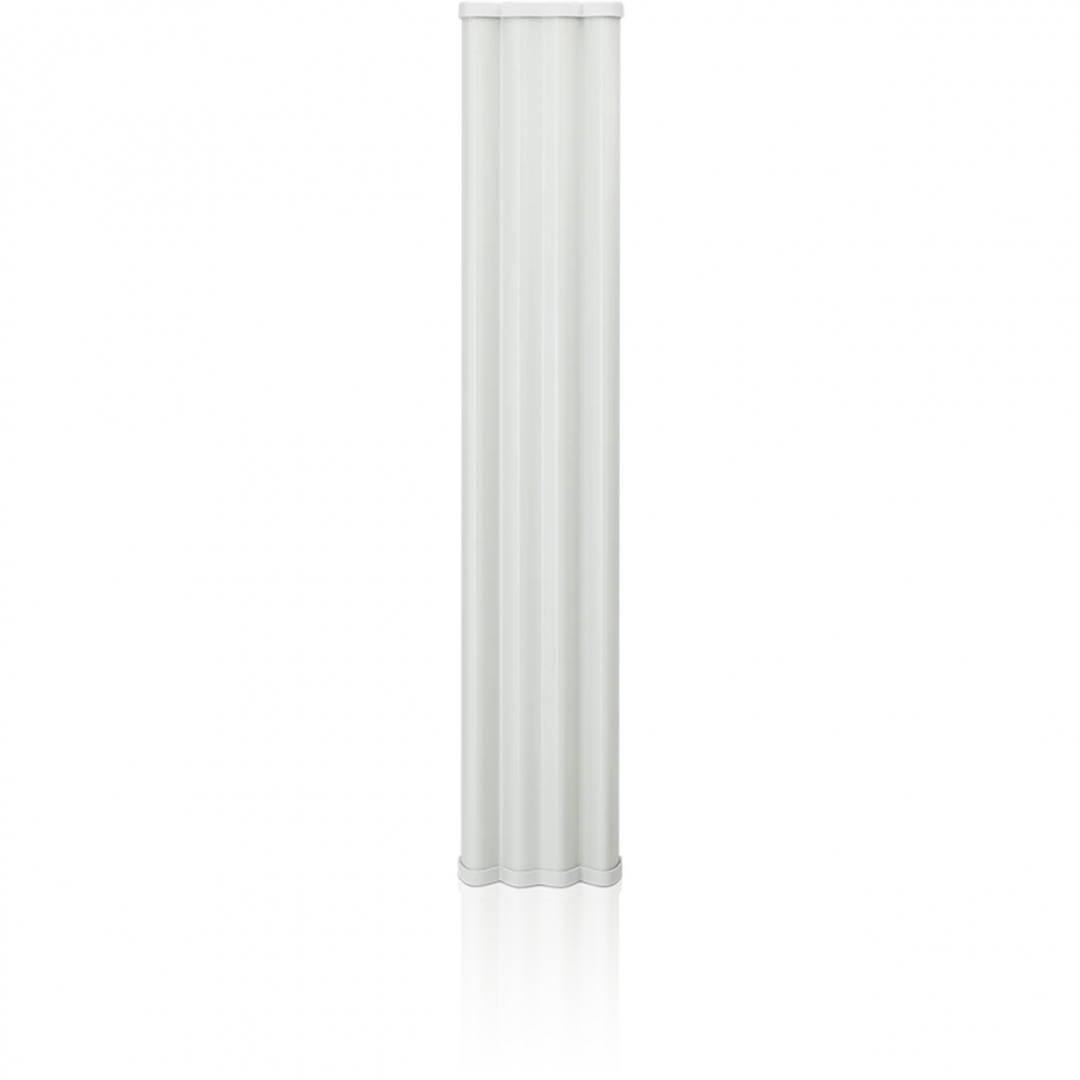sa: (431, 5, 657, 921)
